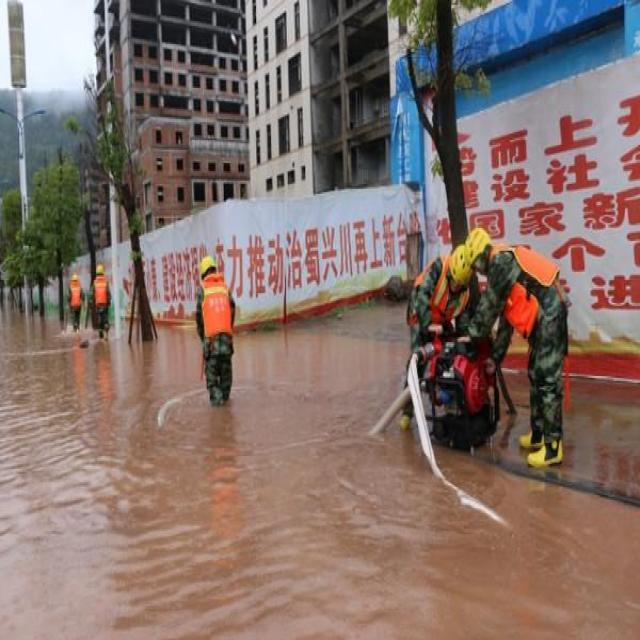rescuer: (468, 228, 576, 477), (186, 255, 248, 406), (410, 237, 485, 341), (86, 261, 118, 344), (64, 266, 87, 336)
